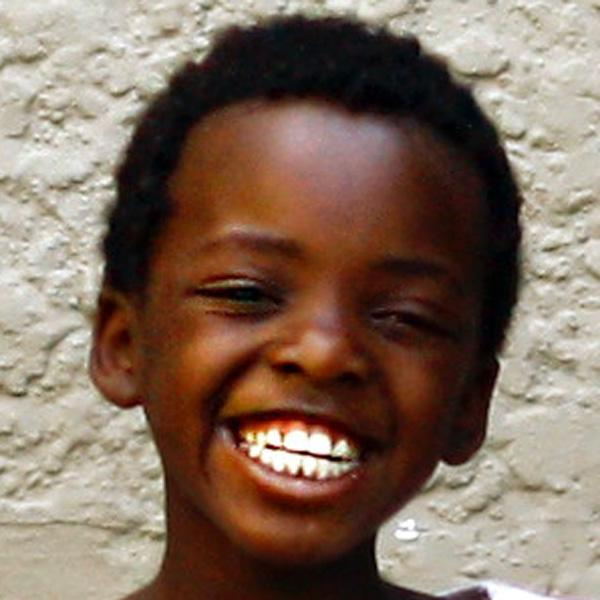Eyes: (188, 259, 294, 321), (361, 286, 453, 349)
